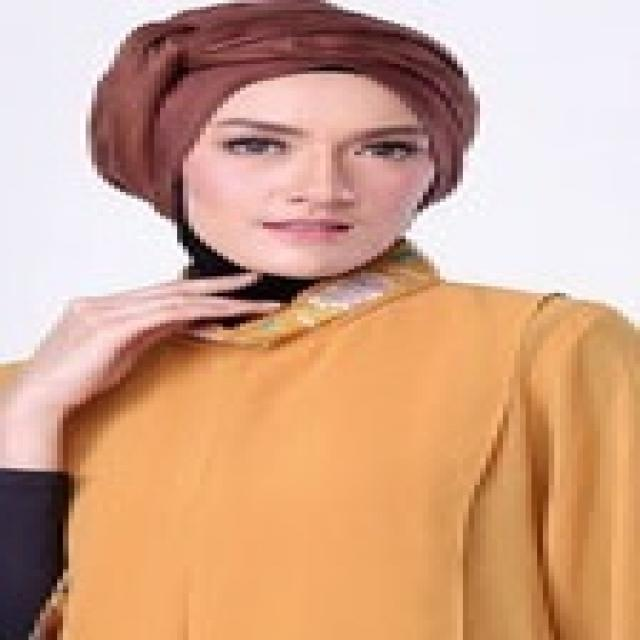head: (101, 5, 478, 282)
